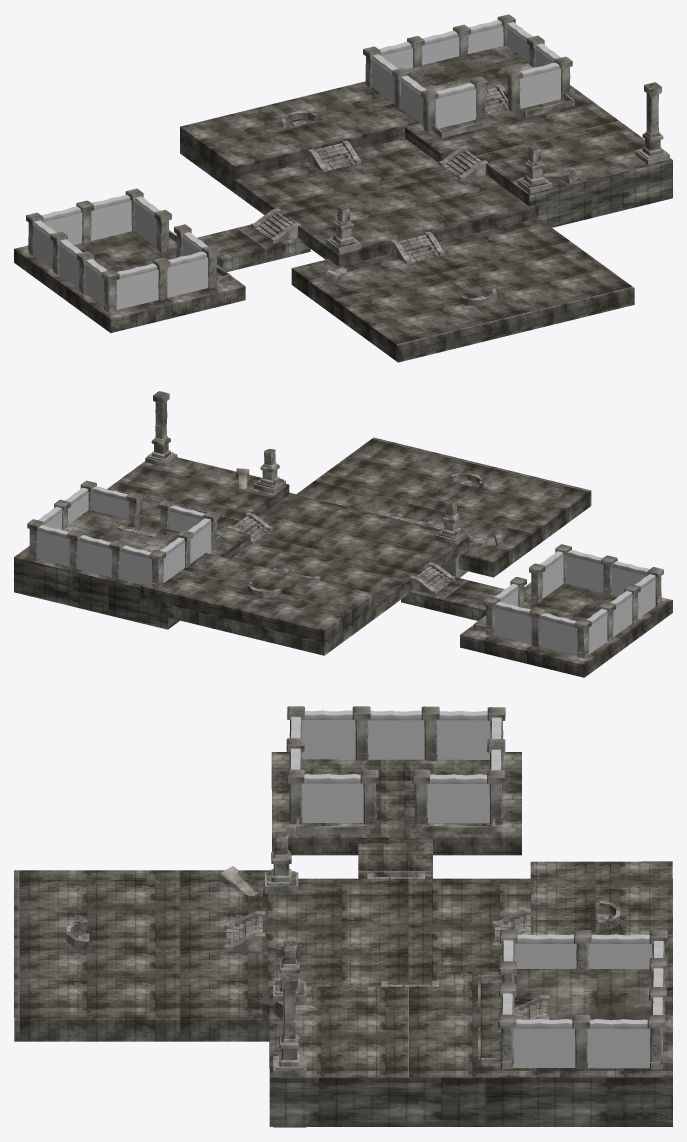
File: Level_Design6.fbx
The picture shows the model from 3 angles, top to bottom: view 1: azimuth 30°, elevation 25°; view 2: azimuth 150°, elevation 25°; view 3: azimuth 270°, elevation 25°; orthographic projection. The views are drawn at different scales.
Visible parts, largest first — view 1: Levels_Base8 (×2), Levels_Base6, Levels_Base1, Levels_Base7, Levels_Base2, Levels_Base9, Levels_Stair2 (×4), Levels_Wall4 (×2), Levels_Wall5 (×2), Levels_Wall (×2), Levels_Wall10 (×2), Levels_Wall7 (×2) (+9 smaller); view 2: Levels_Base8 (×2), Levels_Base6, Levels_Base1, Levels_Base7, Levels_Base9, Levels_Base2, Levels_Wall (×2), Levels_Wall10 (×2), Levels_Wall6 (×2), Levels_Wall7 (×2), Levels_Wall8 (×2), Levels_Wall4 (×2) (+10 smaller); view 3: Levels_Base8 (×2), Levels_Base1, Levels_Base6, Levels_Base7, Levels_Base2, Levels_Wall9, Levels_Wall5, Levels_Wall2, Levels_Wall6, Levels_Base9, Levels_Wall10, Levels_Wall8 (+15 smaller).
Boxes of the visible parts, x1,y1,x2,y2 form: Levels_Base8 (×2): (180, 81, 634, 362); Levels_Base6: (180, 138, 538, 266); Levels_Base1: (405, 85, 672, 227); Levels_Base7: (14, 231, 245, 332); Levels_Base2: (406, 45, 532, 98); Levels_Base9: (197, 224, 310, 271); Levels_Stair2 (×4): (255, 143, 481, 262); Levels_Wall4 (×2): (116, 54, 397, 309); Levels_Wall5 (×2): (134, 62, 560, 247); Levels_Wall (×2): (167, 75, 426, 297); Levels_Wall10 (×2): (58, 30, 459, 288); Levels_Wall7 (×2): (33, 19, 503, 269); Levels_Base8 (×2): (140, 437, 591, 642); Levels_Base6: (140, 492, 469, 655); Levels_Base1: (14, 457, 289, 629); Levels_Base7: (460, 583, 672, 677); Levels_Base9: (401, 577, 504, 620); Levels_Base2: (61, 510, 179, 552); Levels_Wall (×2): (187, 518, 603, 592); Levels_Wall10 (×2): (77, 535, 632, 636); Levels_Wall6 (×2): (64, 487, 531, 644); Levels_Wall7 (×2): (37, 525, 607, 654); Levels_Wall8 (×2): (120, 545, 656, 619); Levels_Wall4 (×2): (160, 537, 649, 596); Levels_Base8 (×2): (14, 861, 672, 1041); Levels_Base1: (269, 971, 672, 1126); Levels_Base6: (262, 878, 672, 1022); Levels_Base7: (271, 752, 521, 855); Levels_Base2: (514, 969, 652, 1020); Levels_Wall9: (587, 1019, 650, 1068); Levels_Wall5: (427, 774, 489, 823); Levels_Wall2: (301, 774, 363, 822); Levels_Wall6: (513, 1019, 575, 1067); Levels_Base9: (358, 837, 432, 878); Levels_Wall10: (368, 710, 424, 759); Levels_Wall8: (302, 710, 355, 759).
Bounding box in the file's own units: 90.13 × 18.56 × 70.64.
